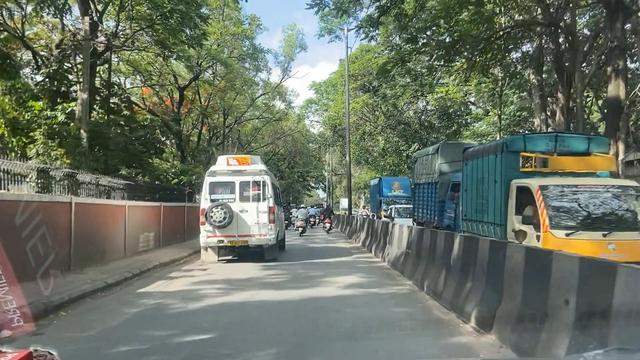HMV: (200, 154, 274, 266)
LMV: (290, 198, 312, 245), (319, 201, 340, 237)
